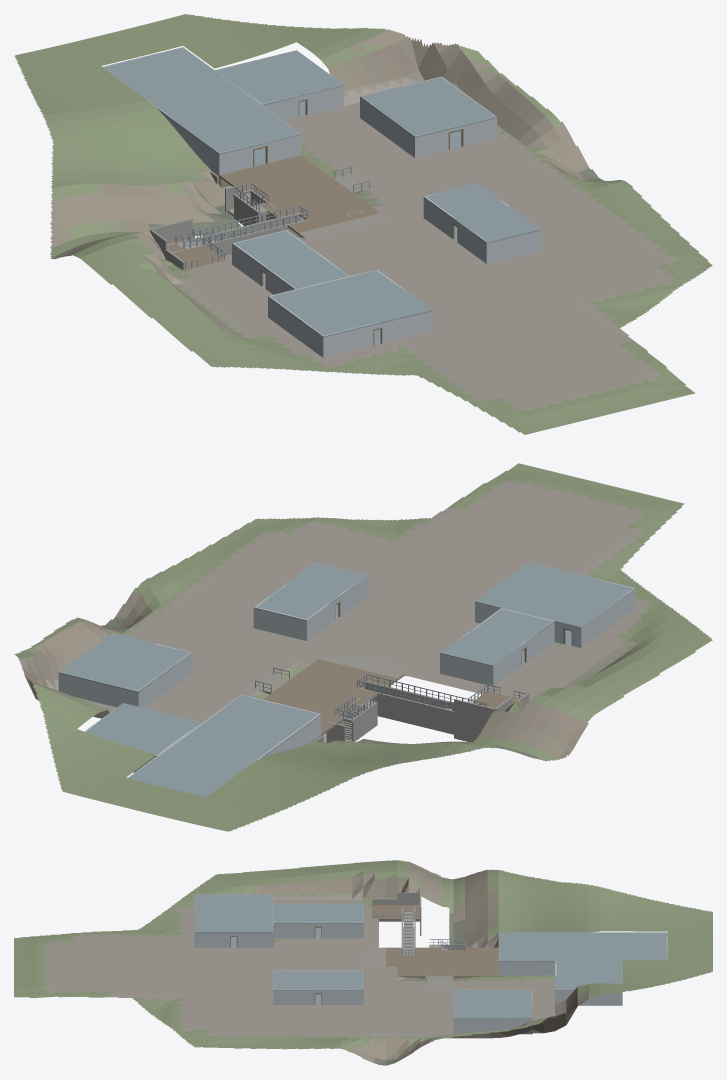
Rendered from clean-doorways.glb.
3 renders of one model, top to bottom at view 1: azimuth 30°, elevation 25°; view 2: azimuth 150°, elevation 25°; view 3: azimuth 270°, elevation 25°, orthographic. The views are drawn at different scales.
Parts seen in each view (by area): view 1: Saved editor geographic earthworks WLD-12, Ceiling cap tunnel, WLD-12 trestle deck with rectangular access region0, Ceiling cap signal, Ceiling cap store, Ceiling cap refuge, Ceiling cap coach-b, Ceiling cap coach-a, WLD-12 clean signal W end, WLD-12 clean coach-b S end, WLD-12 clean store W end, WLD-12 clean signal S pier0 (+12 smaller); view 2: Saved editor geographic earthworks WLD-12, Ceiling cap tunnel, Ceiling cap signal, WLD-12 trestle deck with rectangular access region0, Ceiling cap store, Ceiling cap refuge, Ceiling cap coach-b, Ceiling cap coach-a, WLD-12 west stair retaining wall 36.75 region0, WLD-12 clean store N end, WLD-12 platform north retaining parapet region0, WLD-12 clean coach-b N end (+10 smaller); view 3: Saved editor geographic earthworks WLD-12, Ceiling cap tunnel, Ceiling cap signal, WLD-12 trestle deck with rectangular access region0, Ceiling cap store, Ceiling cap coach-a, Ceiling cap coach-b, Ceiling cap refuge, WLD-12 clean store E end, WLD-12 clean tunnel E end, WLD-12 clean coach-a E end, WLD-12 clean coach-b E end (+6 smaller).
Part boxes in pixels (left/top/right/bottom): Saved editor geographic earthworks WLD-12: left=14, top=14, right=712, bottom=434; Ceiling cap tunnel: left=102, top=47, right=301, bottom=154; WLD-12 trestle deck with rectangular access region0: left=219, top=155, right=379, bottom=234; Ceiling cap signal: left=268, top=269, right=432, bottom=337; Ceiling cap store: left=360, top=76, right=497, bottom=137; Ceiling cap refuge: left=215, top=50, right=343, bottom=105; Ceiling cap coach-b: left=423, top=183, right=541, bottom=243; Ceiling cap coach-a: left=232, top=230, right=349, bottom=289; WLD-12 clean signal W end: left=269, top=296, right=322, bottom=356; WLD-12 clean coach-b S end: left=485, top=230, right=541, bottom=263; WLD-12 clean store W end: left=360, top=97, right=415, bottom=157; WLD-12 clean signal S pier0: left=322, top=323, right=373, bottom=357; Saved editor geographic earthworks WLD-12: left=14, top=463, right=712, bottom=831; Ceiling cap tunnel: left=129, top=694, right=320, bottom=796; Ceiling cap signal: left=475, top=562, right=634, bottom=627; WLD-12 trestle deck with rectangular access region0: left=263, top=659, right=397, bottom=735; Ceiling cap store: left=59, top=633, right=192, bottom=692; Ceiling cap refuge: left=86, top=703, right=202, bottom=756; Ceiling cap coach-b: left=253, top=562, right=368, bottom=620; Ceiling cap coach-a: left=440, top=608, right=554, bottom=666; WLD-12 west stair retaining wall 36.75 region0: left=357, top=687, right=453, bottom=734; WLD-12 clean store N end: left=58, top=671, right=139, bottom=707; WLD-12 platform north retaining parapet region0: left=454, top=699, right=494, bottom=741; WLD-12 clean coach-b N end: left=253, top=607, right=307, bottom=640; Saved editor geographic earthworks WLD-12: left=14, top=860, right=712, bottom=1065; Ceiling cap tunnel: left=498, top=932, right=667, bottom=961; Ceiling cap signal: left=194, top=894, right=273, bottom=933; WLD-12 trestle deck with rectangular access region0: left=386, top=947, right=498, bottom=977; Ceiling cap store: left=453, top=989, right=532, bottom=1018; Ceiling cap coach-a: left=273, top=903, right=363, bottom=923; Ceiling cap coach-b: left=273, top=970, right=363, bottom=990; Ceiling cap refuge: left=555, top=961, right=622, bottom=990; WLD-12 clean store E end: left=455, top=1018, right=531, bottom=1033; WLD-12 clean tunnel E end: left=500, top=960, right=554, bottom=976; WLD-12 clean coach-a E end: left=274, top=922, right=314, bottom=938; WLD-12 clean coach-b E end: left=274, top=989, right=314, bottom=1004.
Size of the model in its own units: 75 by 10.08 by 124.
Materials: 28 (16 with a texture image).
